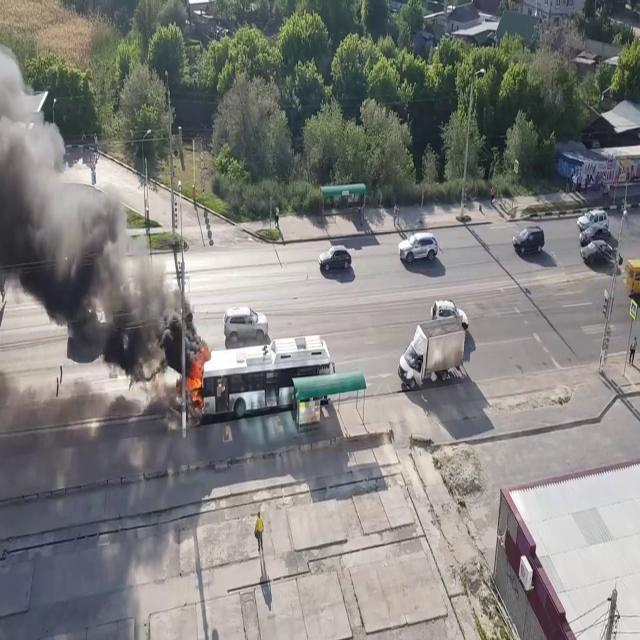Fire: (187, 352, 207, 406)
Smoke: (0, 7, 190, 361)
